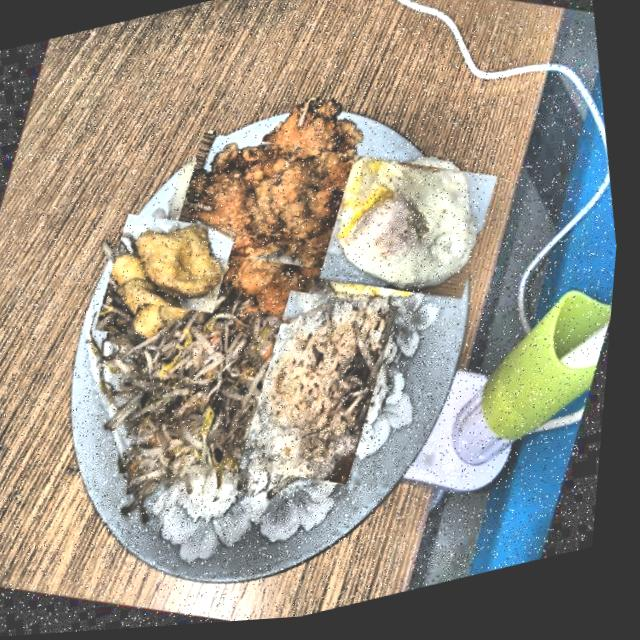Food: (162, 77, 428, 340), (63, 272, 315, 536), (215, 268, 436, 514), (302, 125, 520, 340), (77, 190, 262, 373)
